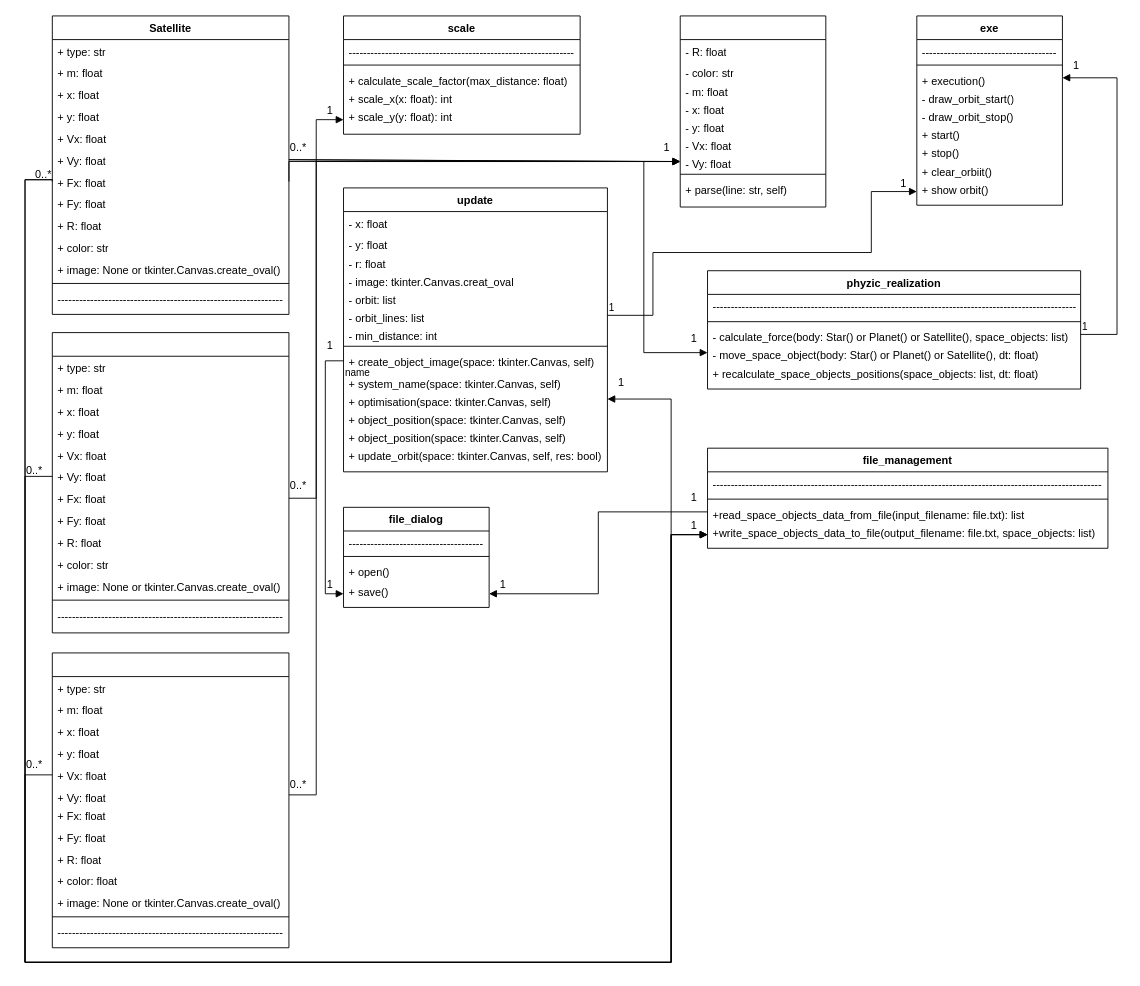
This 1140x986 diagram has some shape labels left out. Each missing label, with the box of its shape:
object_parametrs: (679, 15, 826, 207)
Planet: (51, 652, 289, 948)
Star: (51, 332, 289, 633)
